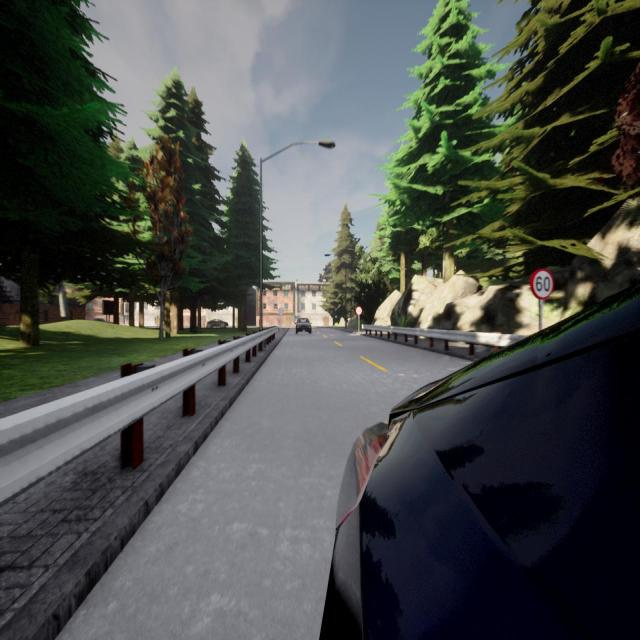Traffic_Signs: (528, 269, 554, 298), (354, 306, 362, 315), (278, 306, 284, 316)
Vehicle: (321, 283, 639, 638), (294, 318, 312, 334), (206, 318, 228, 328)
